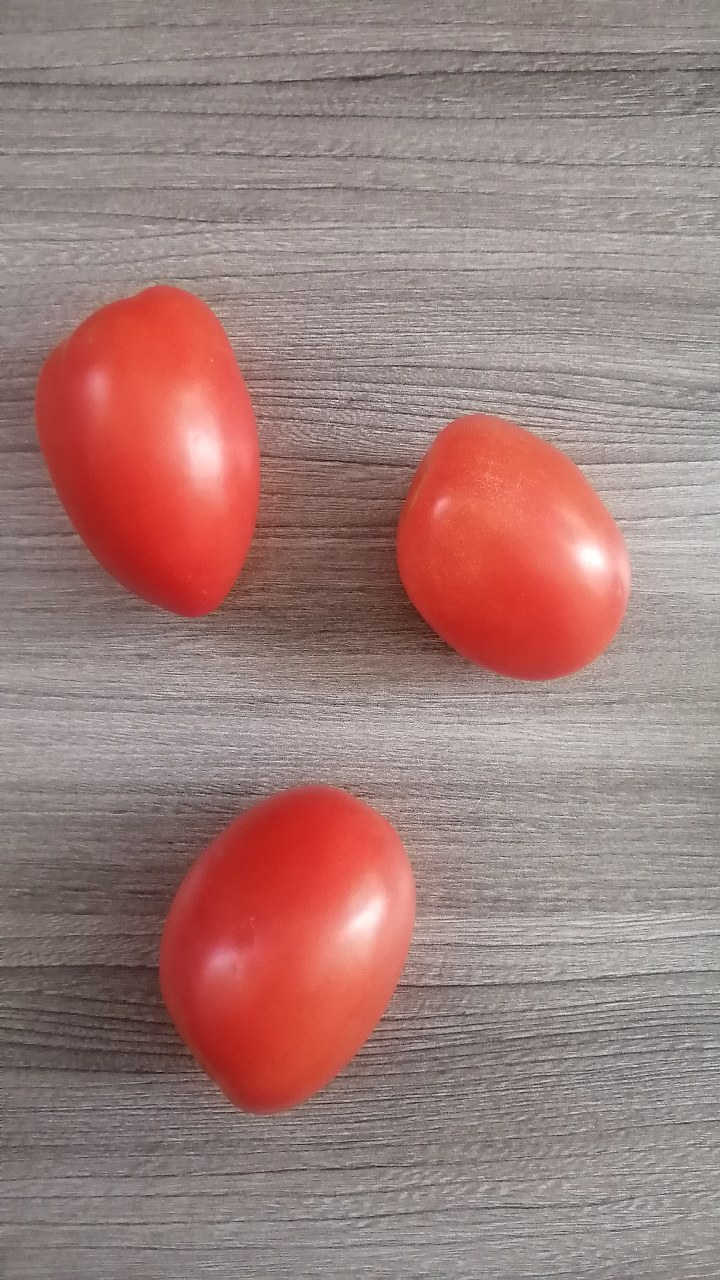tomateRojo: (126, 765, 446, 1128), (21, 271, 303, 629), (364, 394, 643, 697)
